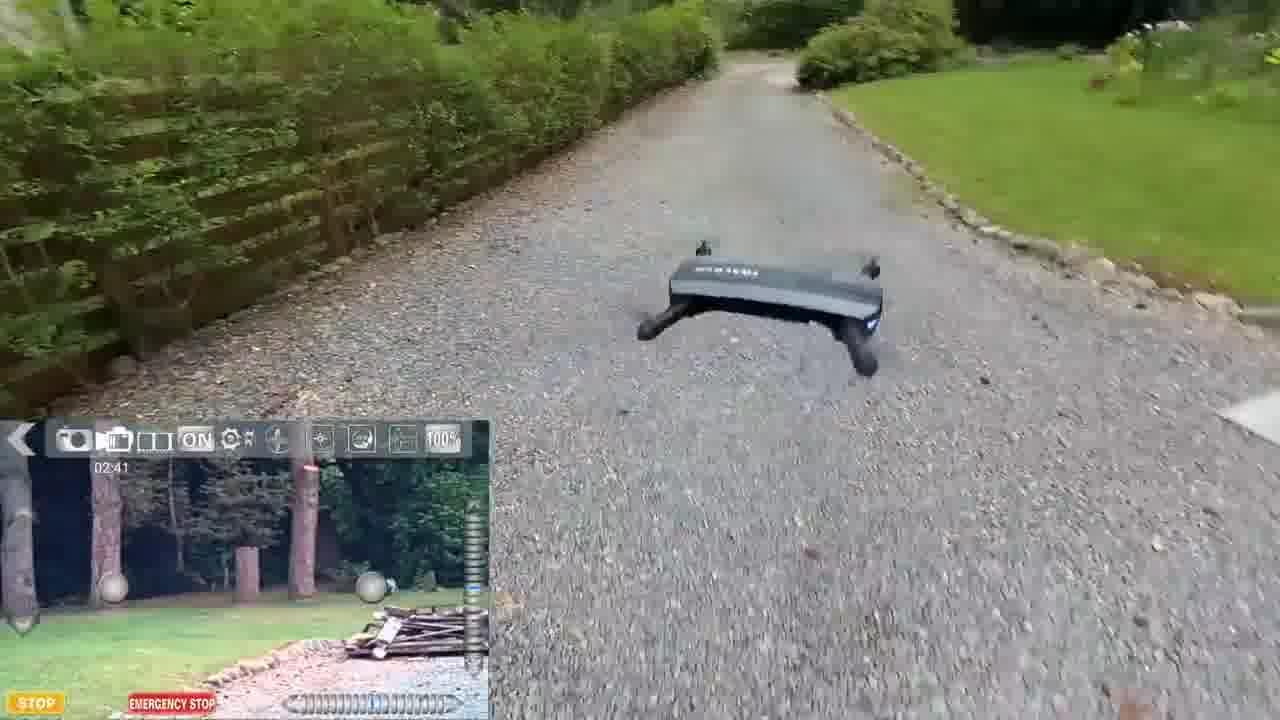drone: (640, 220, 899, 370)
